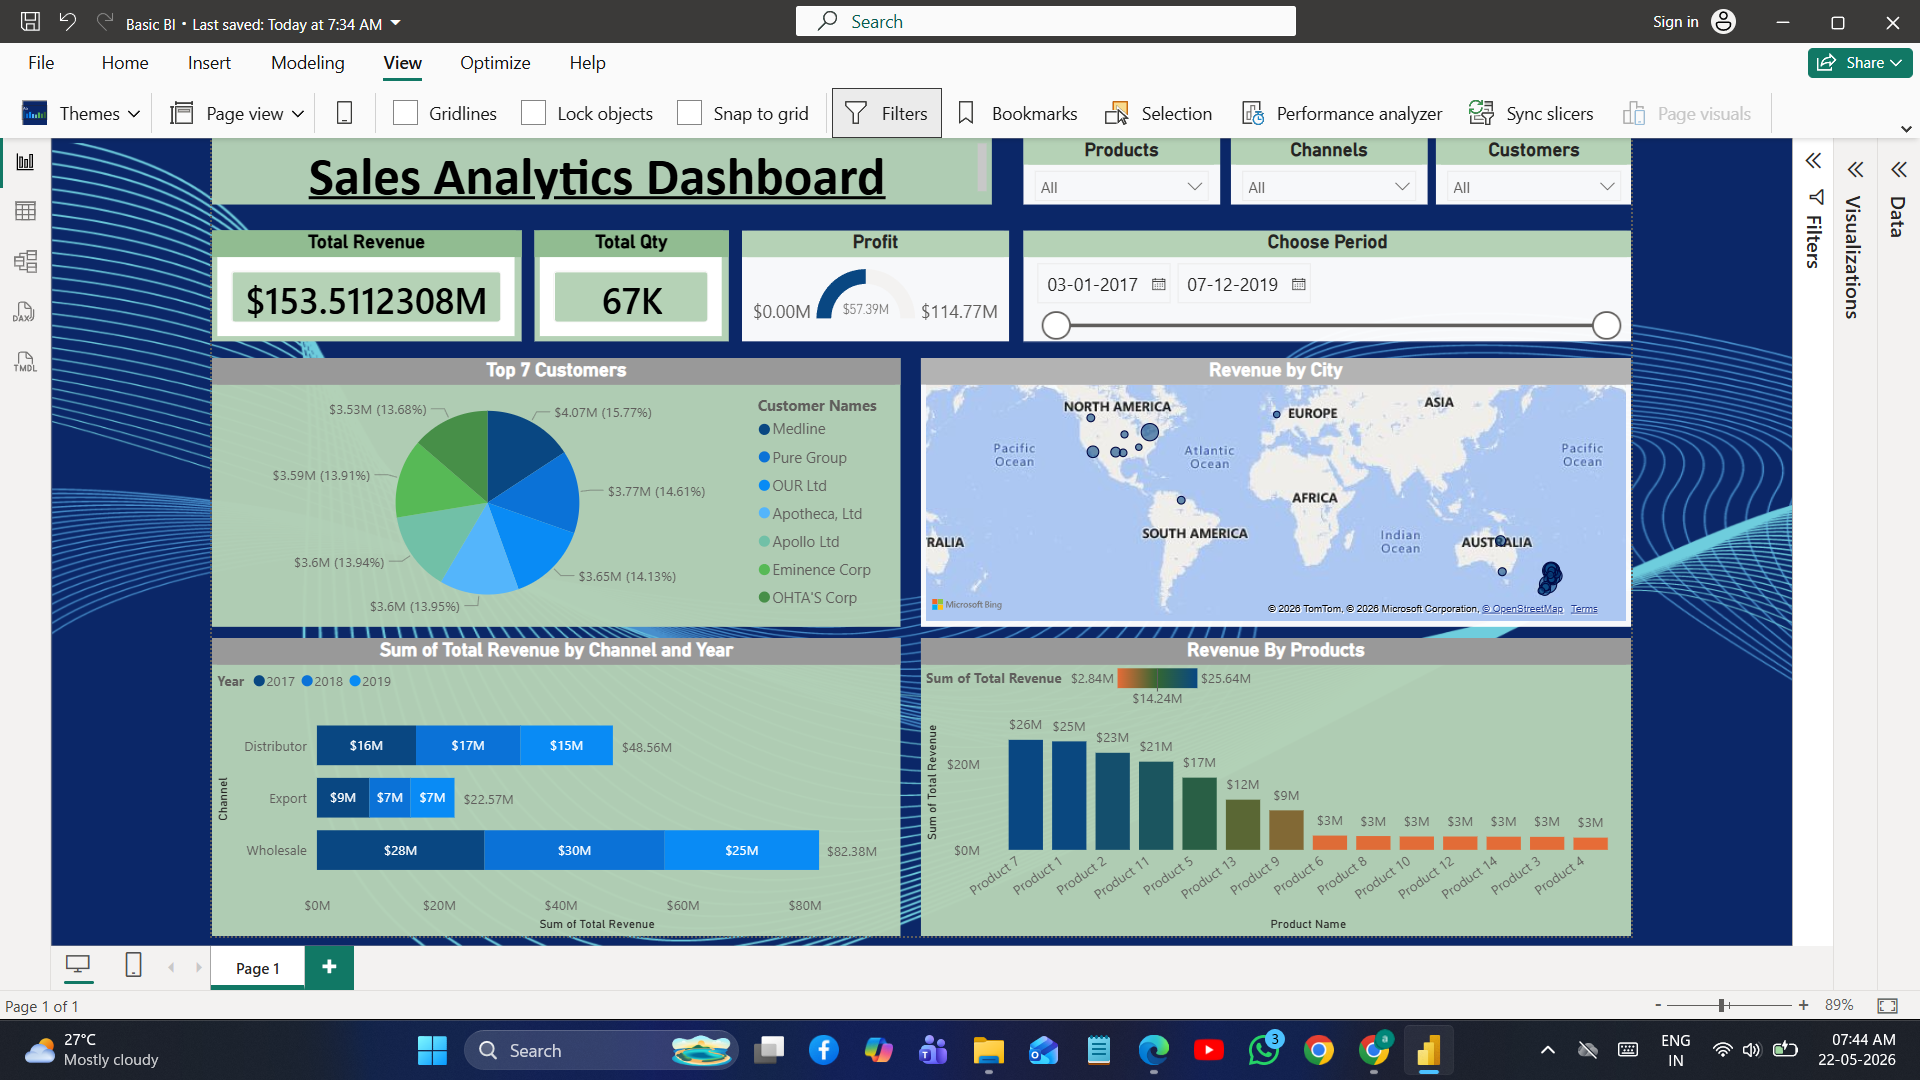

The page's visual inventory and layout, read from the dashboard file:
{"tool":"powerbi","page":{"name":"Page 1","canvas":[1280,720],"ordinal":0},"visuals":[{"type":"barChart","fields":{"Category":["Sales_Data.Channel"],"Y":["Sum(Sales_Data.Total Revenue)"],"Series":["Sales_Data.OrderDate.Variation.Date Hierarchy.Year"]},"box":[0,451.2,621.2,269],"z":0},{"type":"columnChart","title":"Revenue By Products","fields":{"Category":["Products_Data.Product Name","Sales_Data.OrderDate.Variation.Date Hierarchy.Year"],"Y":["Sum(Sales_Data.Total Revenue)"]},"box":[639.5,451.2,640.8,269],"z":1000},{"type":"pieChart","title":"Top 7 Customers","fields":{"Category":["Customer_Data.Customer Names"],"Y":["Sum(Sales_Data.Total Revenue)"]},"box":[0,198.1,621.2,242.1],"z":2000},{"type":"map","title":"Revenue by City","fields":{"Category":["Regions_Table.City"],"Size":["Sum(Sales_Data.Total Revenue)"]},"box":[639.5,198.1,640.8,242.1],"z":3000},{"type":"cardVisual","title":"Total Revenue","fields":{"Data":["Sum(Sales_Data.Total Revenue)"]},"box":[0,83.2,278.8,100.3],"z":4000},{"type":"cardVisual","title":"Total Qty","fields":{"Data":["Sum(Sales_Data.Order Quantity)"]},"box":[291,83.2,174.9,100.3],"z":5000},{"type":"gauge","title":"Profit","fields":{"Y":["Sum(Sales_Data.Profit)"]},"box":[478.1,83.2,240.9,100.3],"z":6000},{"type":"slicer","title":"Choose Period","fields":{"Values":["Sales_Data.OrderDate"]},"box":[731.3,83.2,549.1,100.3],"z":7000},{"type":"slicer","title":"Customers","fields":{"Values":["Customer_Data.Customer Names"]},"box":[1103,0,177.3,59.9],"z":8000},{"type":"slicer","title":"Channels","fields":{"Values":["Sales_Data.Channel"]},"box":[918.3,0,177.3,59.9],"z":9000},{"type":"slicer","title":"Products","fields":{"Values":["Products_Data.Product Name"]},"box":[731.3,0,177.3,59.9],"z":10000},{"type":"textbox","box":[0,0,703.1,59.9],"z":11000}]}

Visuals, with their boxes on the page's 1280x720 design canvas (x1, y1, x2, y2). These are canvas units, not pixel positions in the 1920x1080 screenshot, which may show the page scaled, cropped or inside an application window:
barChart - Sales_Data.Channel x Sum(Sales_Data.Total Revenue): <bbox>0, 451, 621, 720</bbox>
"Revenue By Products" columnChart: <bbox>640, 451, 1280, 720</bbox>
"Top 7 Customers" pieChart: <bbox>0, 198, 621, 440</bbox>
"Revenue by City" map: <bbox>640, 198, 1280, 440</bbox>
"Total Revenue" cardVisual: <bbox>0, 83, 279, 184</bbox>
"Total Qty" cardVisual: <bbox>291, 83, 466, 184</bbox>
"Profit" gauge: <bbox>478, 83, 719, 184</bbox>
"Choose Period" slicer: <bbox>731, 83, 1280, 184</bbox>
"Customers" slicer: <bbox>1103, 0, 1280, 60</bbox>
"Channels" slicer: <bbox>918, 0, 1096, 60</bbox>
"Products" slicer: <bbox>731, 0, 909, 60</bbox>
textbox: <bbox>0, 0, 703, 60</bbox>
